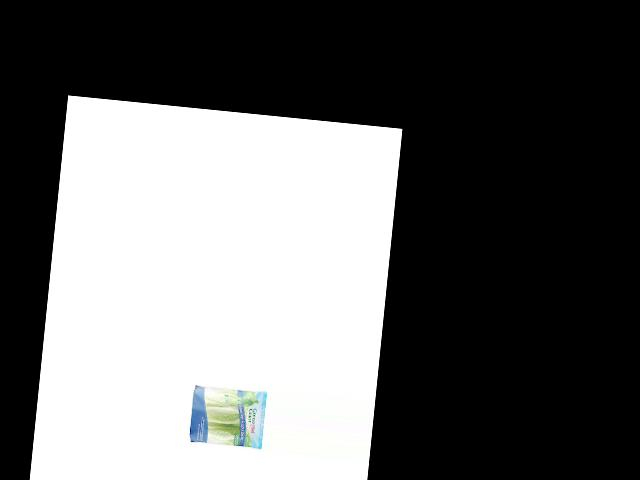lettuce: (185, 382, 264, 449)
